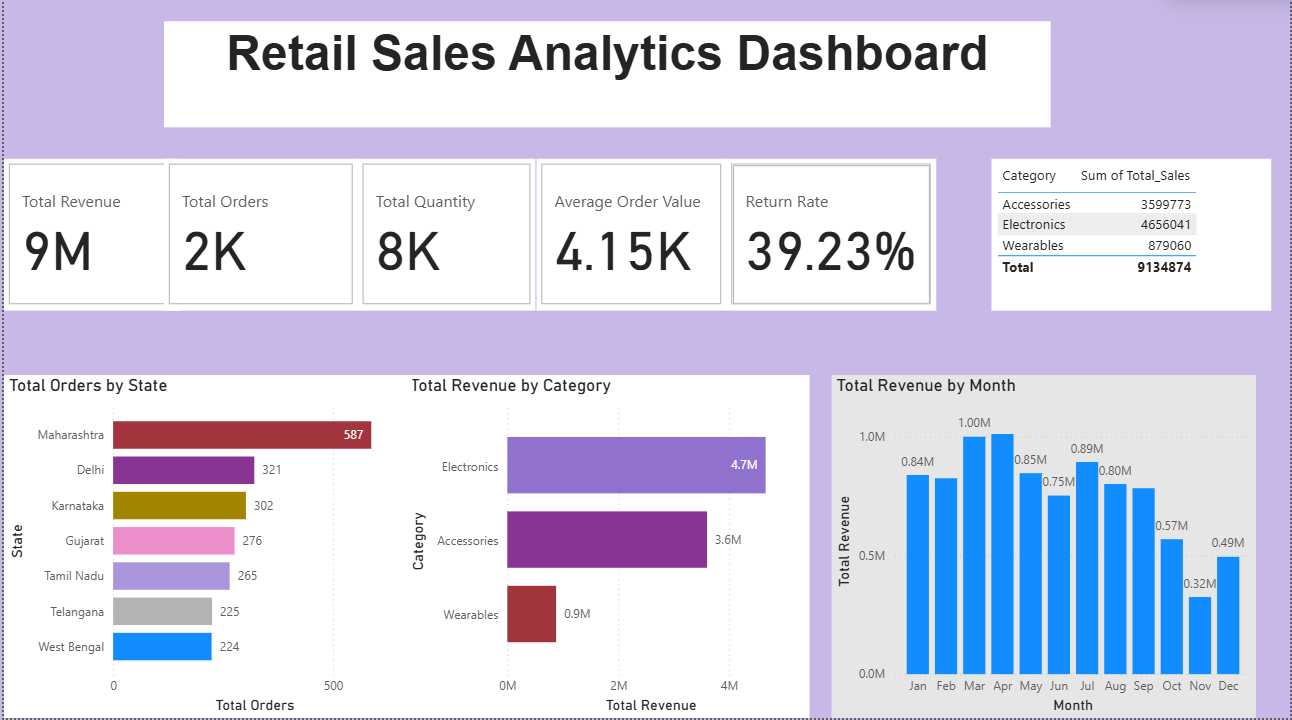

The page's visual inventory and layout, read from the dashboard file:
{"tool":"powerbi","page":{"name":"Page 1","canvas":[1280,720],"ordinal":0},"visuals":[{"type":"tableEx","fields":{"Values":["Dim_Product.Category","Sum(Fact_sales.Total_Sales)"]},"box":[982.5,163.3,278.6,150.9],"z":0},{"type":"cardVisual","fields":{"Data":["Fact_sales.Total Revenue"]},"box":[0,163.3,175.6,150.9],"z":1000},{"type":"cardVisual","fields":{"Data":["Fact_sales.Total Orders"]},"box":[159.2,163.3,193.5,150.9],"z":2000},{"type":"cardVisual","fields":{"Data":["Fact_sales.Total Quantity"]},"box":[352.7,163.3,177,150.9],"z":3000},{"type":"cardVisual","fields":{"Data":["Fact_sales.Average Order Value"]},"box":[529.7,163.3,189.4,150.9],"z":4000},{"type":"cardVisual","fields":{"Data":["Fact_sales.Return Rate"]},"box":[719,163.3,208.6,150.9],"z":5000},{"type":"clusteredBarChart","fields":{"Category":["Dim_Product.Category"],"Y":["Fact_sales.Total Revenue"]},"box":[399.3,378.7,402.1,341.7],"z":6000},{"type":"clusteredBarChart","fields":{"Category":["Dim_Customer.State"],"Y":["Fact_sales.Total Orders"]},"box":[0,378.7,406.2,341.7],"z":7000},{"type":"columnChart","fields":{"Category":["Dim_Date.Month"],"Y":["Fact_sales.Total Revenue"]},"box":[823.3,378.7,422.6,341.7],"z":8000},{"type":"textbox","box":[159.2,26.1,882.3,105.7],"z":9000}]}

Visuals, with their boxes in screenshot pixels (x1, y1, x2, y2), scaled from the page's 1280x720 canvas onto the 1292x720 screenshot:
tableEx - Dim_Product.Category x Sum(Fact_sales.Total_Sales): pyautogui.locateOnScreen(992, 163, 1273, 314)
cardVisual - Fact_sales.Total Revenue: pyautogui.locateOnScreen(0, 163, 177, 314)
cardVisual - Fact_sales.Total Orders: pyautogui.locateOnScreen(161, 163, 356, 314)
cardVisual - Fact_sales.Total Quantity: pyautogui.locateOnScreen(356, 163, 535, 314)
cardVisual - Fact_sales.Average Order Value: pyautogui.locateOnScreen(535, 163, 726, 314)
cardVisual - Fact_sales.Return Rate: pyautogui.locateOnScreen(726, 163, 936, 314)
clusteredBarChart - Dim_Product.Category x Fact_sales.Total Revenue: pyautogui.locateOnScreen(403, 379, 809, 719)
clusteredBarChart - Dim_Customer.State x Fact_sales.Total Orders: pyautogui.locateOnScreen(0, 379, 410, 719)
columnChart - Dim_Date.Month x Fact_sales.Total Revenue: pyautogui.locateOnScreen(831, 379, 1258, 719)
textbox: pyautogui.locateOnScreen(161, 26, 1051, 132)
